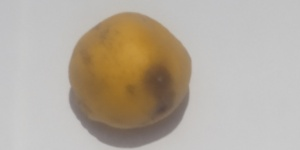BAD: (69, 12, 194, 138)
